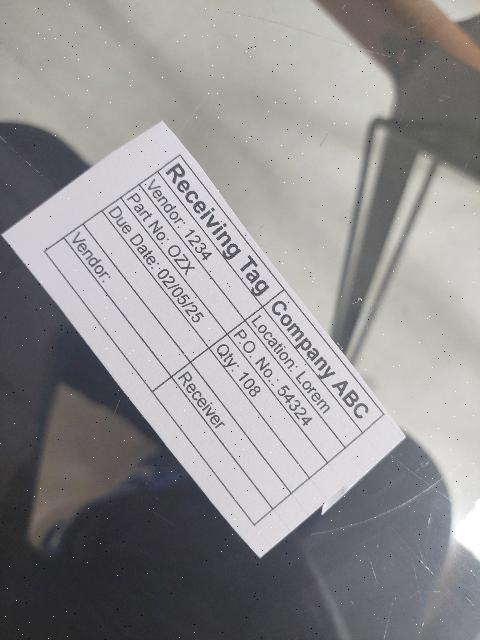PO no: (228, 320, 345, 463)
part no: (120, 184, 246, 334)
qty: (208, 334, 326, 477)
tags: (5, 124, 402, 552)
